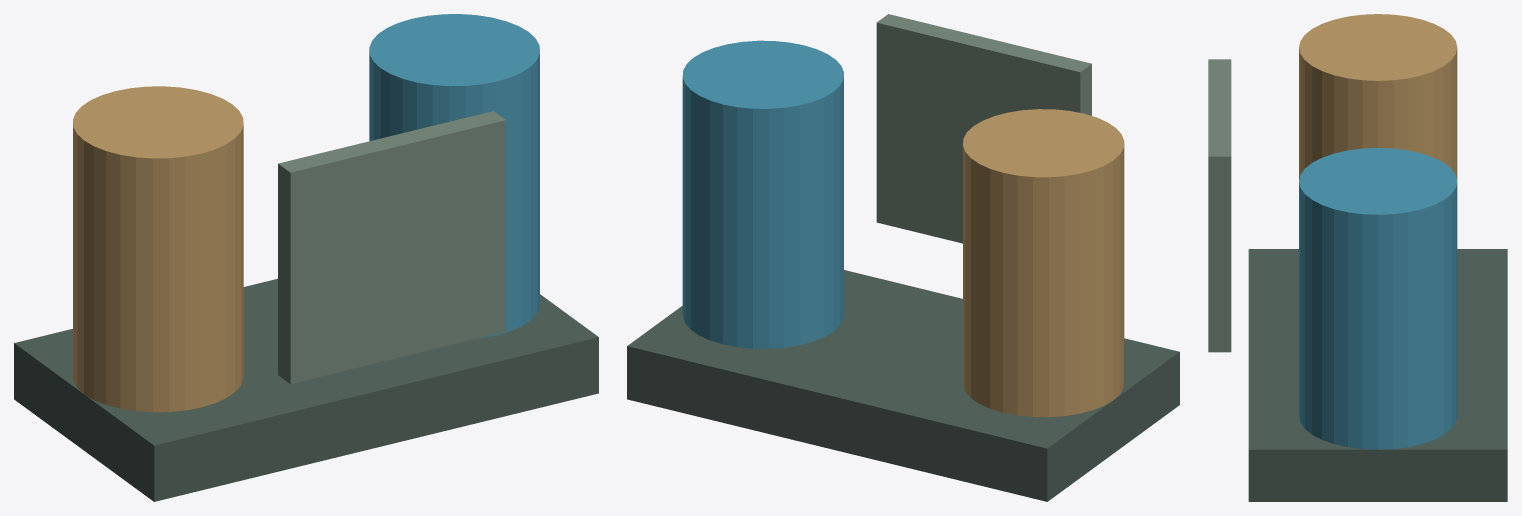
The model's file is mixing_station_concept.obj.
3 renders of one model, left to right at view 1: azimuth 30°, elevation 25°; view 2: azimuth 150°, elevation 25°; view 3: azimuth 270°, elevation 25°, orthographic. The views are drawn at different scales.
Parts seen in each view (by area): view 1: A_stock_tank, skid_base, dosing_panel, B_stock_tank; view 2: skid_base, A_stock_tank, B_stock_tank, dosing_panel; view 3: B_stock_tank, skid_base, A_stock_tank, dosing_panel.
Part boxes in pixels (bbox=[...]): A_stock_tank: bbox=[73, 86, 243, 412]; skid_base: bbox=[14, 278, 598, 501]; dosing_panel: bbox=[278, 111, 505, 383]; B_stock_tank: bbox=[369, 14, 539, 338]; skid_base: bbox=[627, 270, 1179, 501]; A_stock_tank: bbox=[963, 109, 1124, 417]; B_stock_tank: bbox=[682, 40, 843, 348]; dosing_panel: bbox=[876, 14, 1091, 243]; B_stock_tank: bbox=[1299, 148, 1457, 449]; skid_base: bbox=[1248, 249, 1507, 501]; A_stock_tank: bbox=[1299, 14, 1457, 179]; dosing_panel: bbox=[1208, 59, 1231, 352].
Size of the model in its own units: 1.65 by 1.12 by 1.04.
